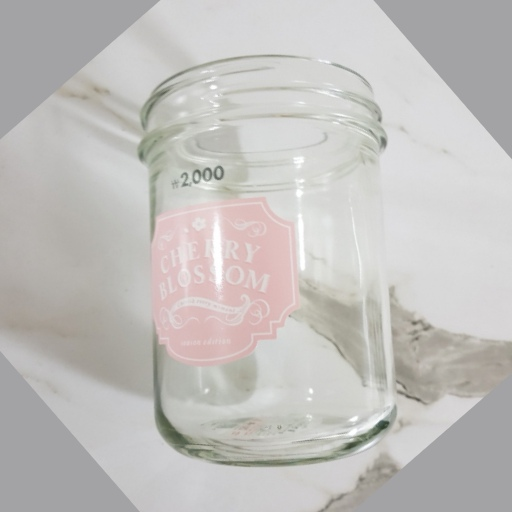Glass_5: (140, 51, 397, 462)
